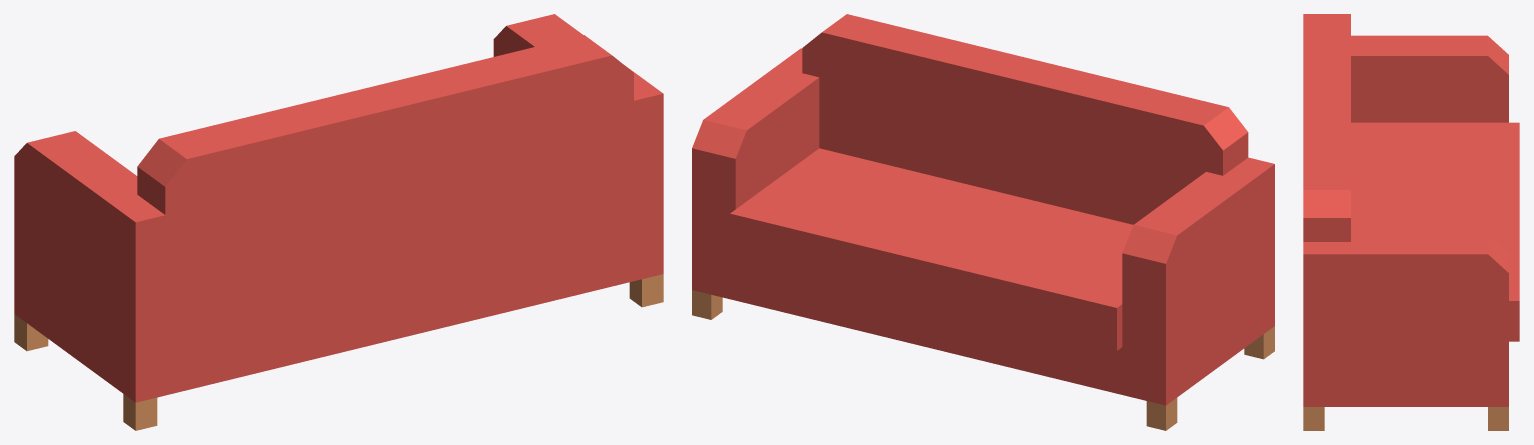
File: pp-kenney-lounge-sofa.glb
The picture shows the model from 3 angles, left to right: view 1: azimuth 30°, elevation 25°; view 2: azimuth 150°, elevation 25°; view 3: azimuth 270°, elevation 25°; orthographic projection. The views are drawn at different scales.
Parts seen in each view (by area): view 1: loungeSofa; view 2: loungeSofa; view 3: loungeSofa.
Boxes of the visible parts, x1,y1,x2,y2 form: loungeSofa: (14, 14, 663, 430); loungeSofa: (692, 14, 1274, 430); loungeSofa: (1303, 14, 1519, 430).
Size of the model in its own units: 0.98 by 0.46 by 0.41.
